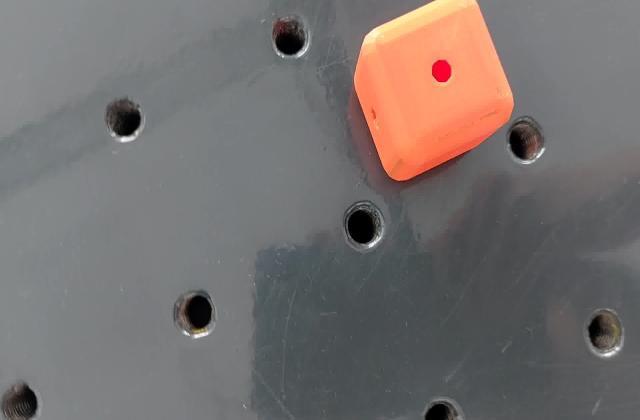cube: (350, 2, 518, 188)
